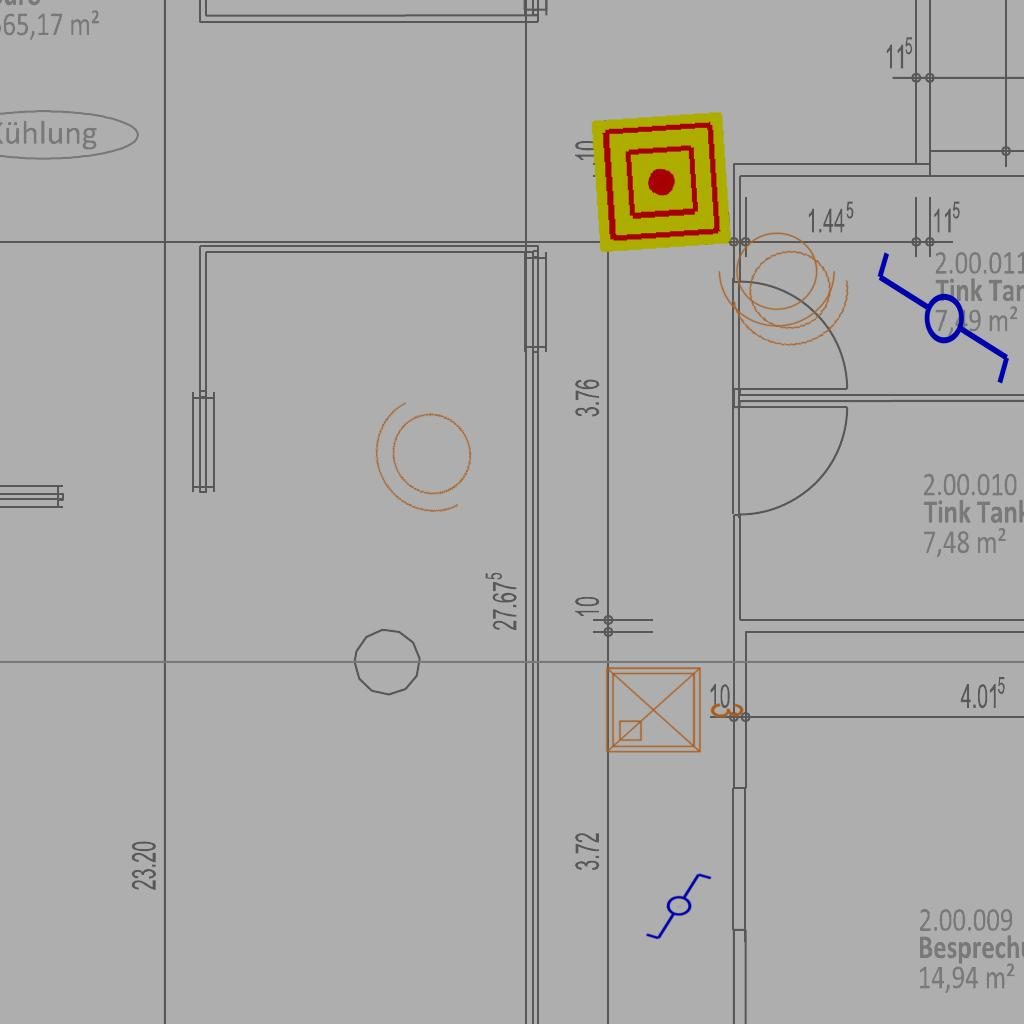Einbaudownlights_LED_Konferenzraeume: (599, 656, 749, 760)
NAM-Nichtautomatischer_Melder: (590, 111, 732, 253)
Scheinwerfer_fuer_Alarmbeleuchtung: (349, 374, 509, 544), (719, 227, 869, 361), (714, 220, 846, 332)
Wechselschalter: (870, 248, 1014, 405), (644, 871, 722, 943)
